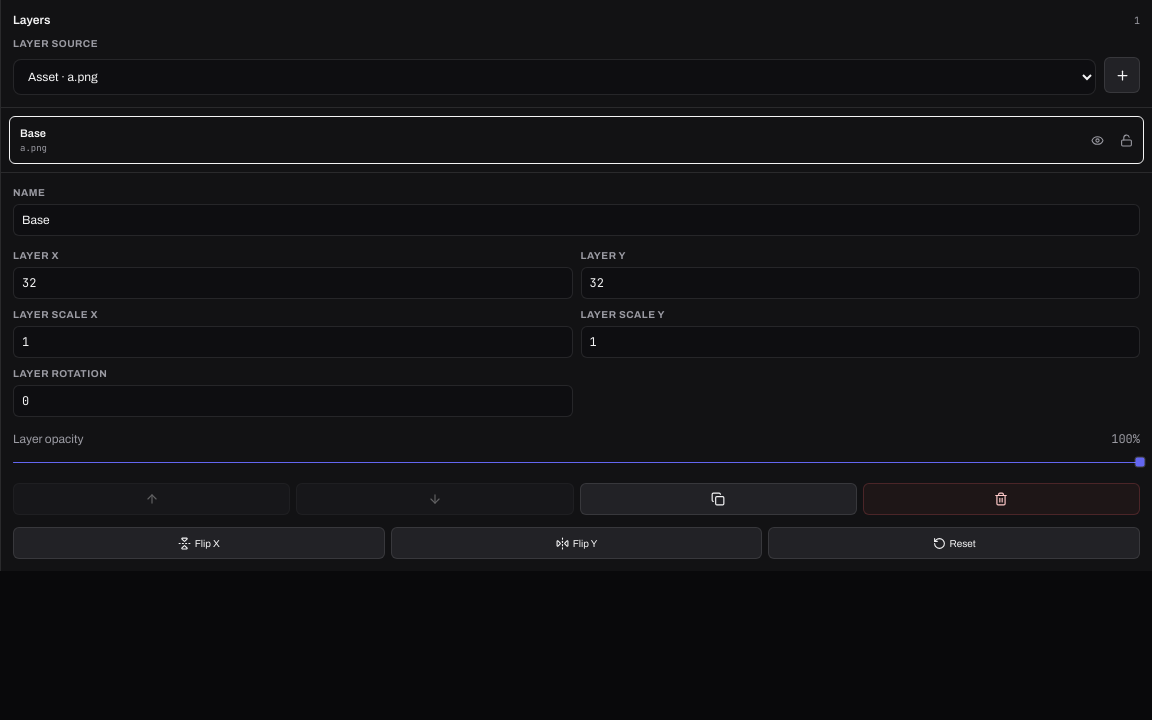
Test: ComposeLayersPanel › adds a selected source and exposes the new layer
The image size is (1152, 720).
Select "Asset · b.png" in the dropdown labelled "Layer source": (554, 77) [13,59,1096,95]
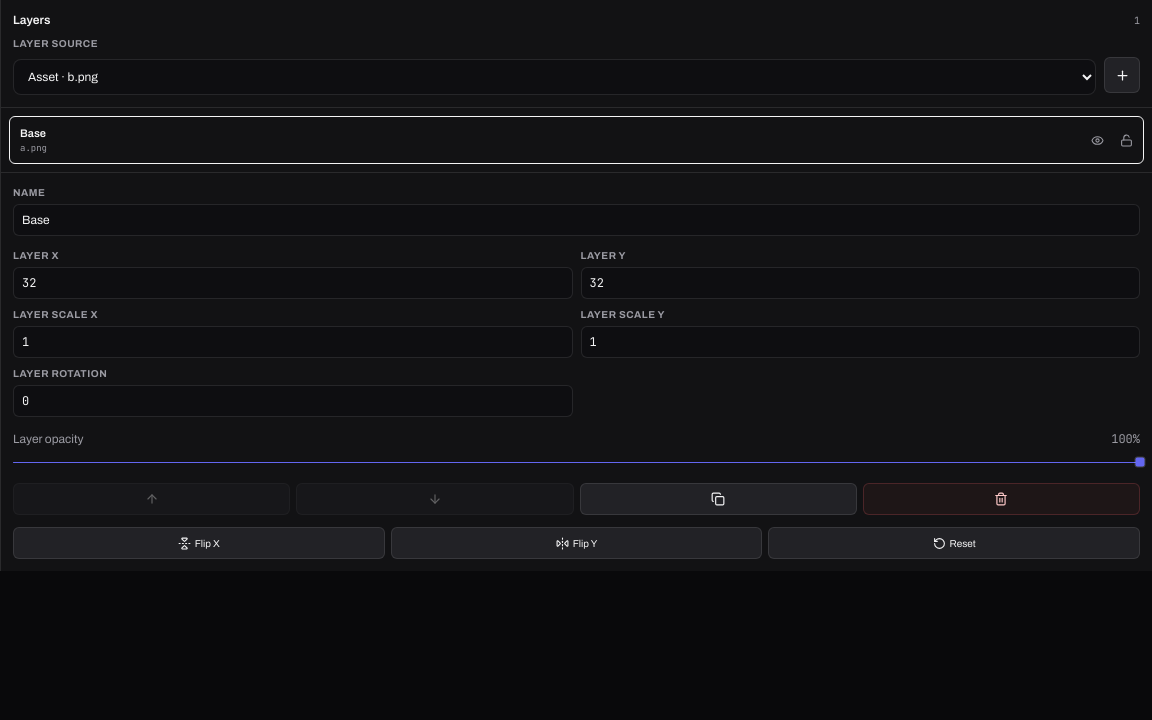
Click the button named "Add layer": click(1122, 75) [1104,57,1140,93]
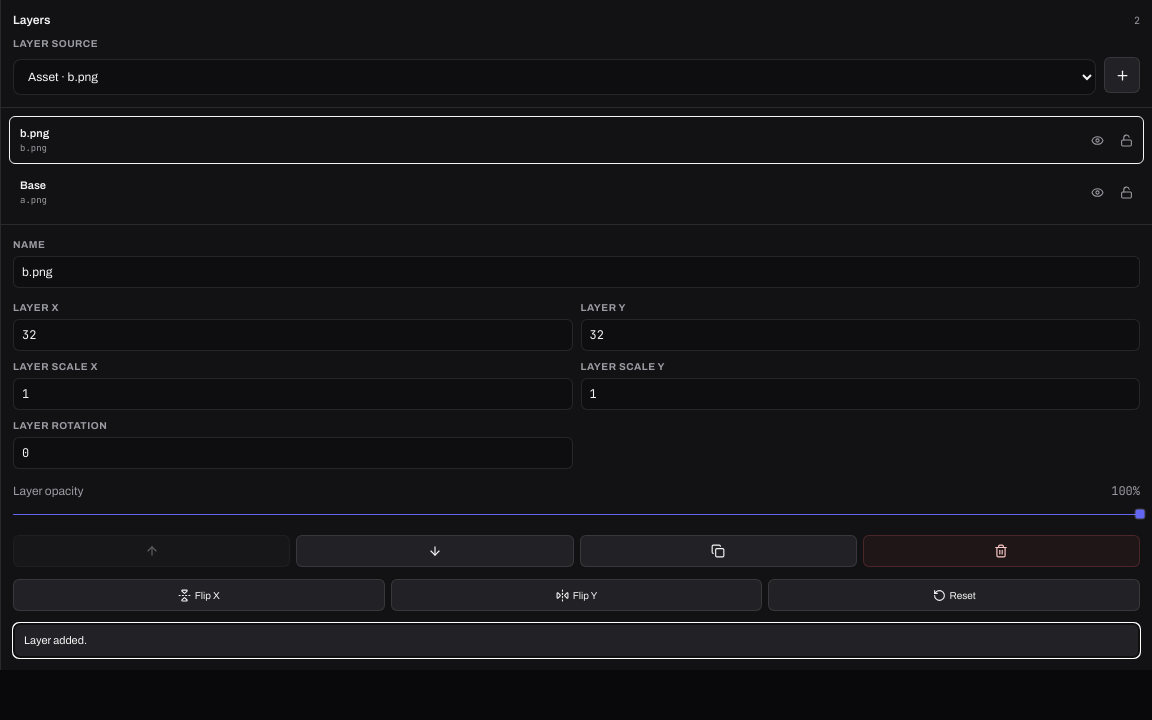
Now the message shows "Layer added", box [24,634,87,646]
